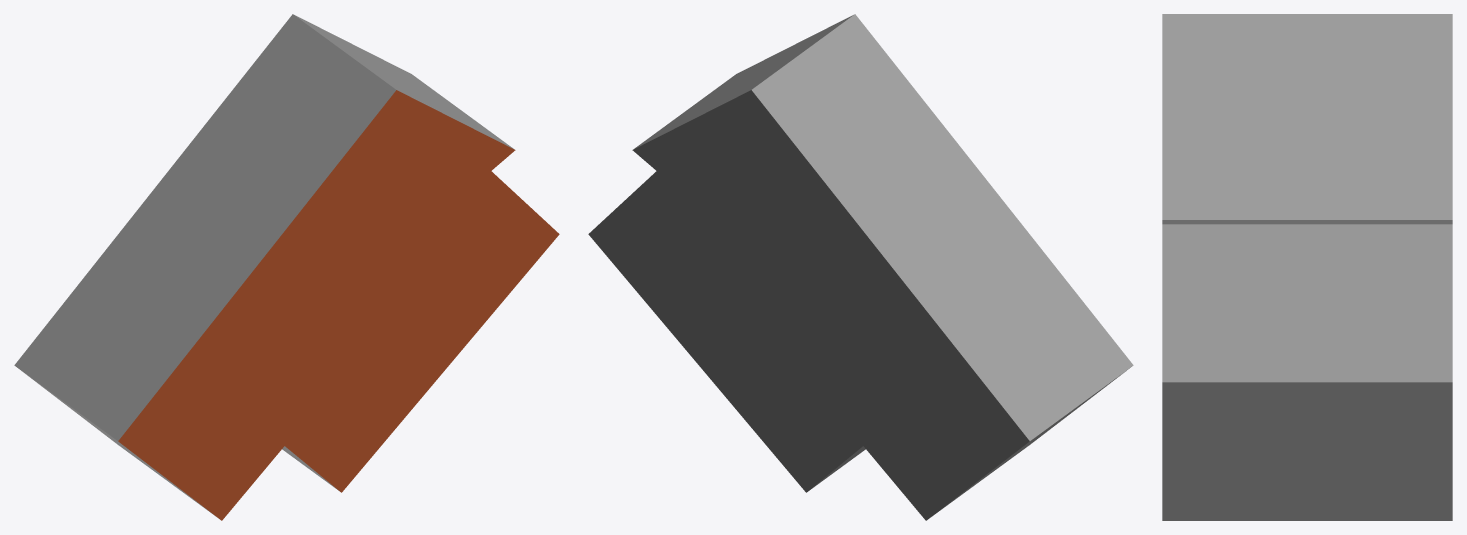
Rendered from construction_2719_assumed_A_Casa_h6m.obj.
3 renders of one model, left to right at view 1: azimuth 30°, elevation 25°; view 2: azimuth 150°, elevation 25°; view 3: azimuth 270°, elevation 25°, orthographic. The views are drawn at different scales.
Parts seen in each view (by area): view 1: construction_2719_assumed_A_Casa; view 2: construction_2719_assumed_A_Casa; view 3: construction_2719_assumed_A_Casa.
Boxes of the visible parts, x1,y1,x2,y2 form: construction_2719_assumed_A_Casa: (14,14,559,520); construction_2719_assumed_A_Casa: (588,14,1133,520); construction_2719_assumed_A_Casa: (1162,14,1452,520).
Bounding box in the file's own units: 14.74 × 12.43 × 6.
